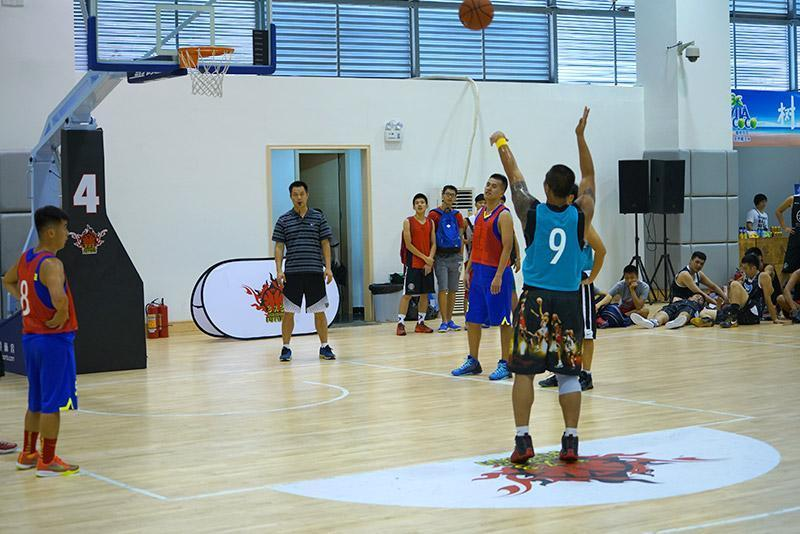ball: (458, 0, 495, 32)
human: (488, 105, 595, 465), (0, 203, 81, 480), (450, 172, 514, 381), (269, 177, 339, 362), (394, 192, 438, 334), (428, 183, 465, 333)
rim: (176, 46, 236, 99)
